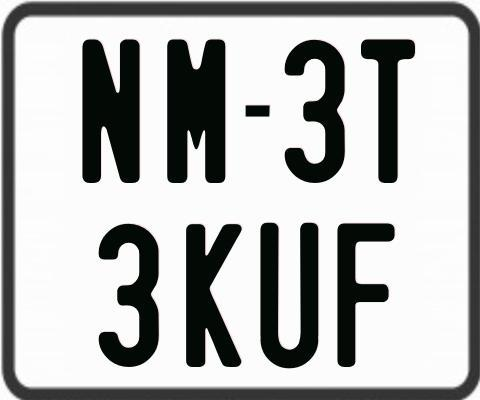3: (285, 38, 347, 182), (96, 221, 157, 365)
F: (334, 223, 397, 371)
K: (184, 224, 243, 369)
M: (164, 36, 225, 184)
N: (82, 39, 142, 185)
T: (359, 37, 413, 186)
U: (258, 222, 322, 370)
